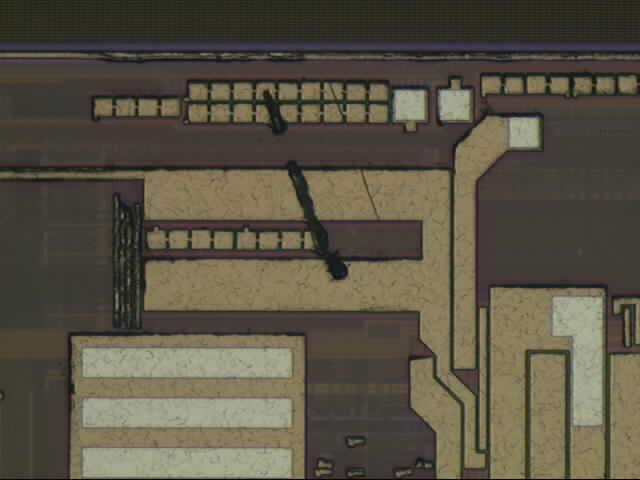SCRATCH: (258, 73, 387, 286)
